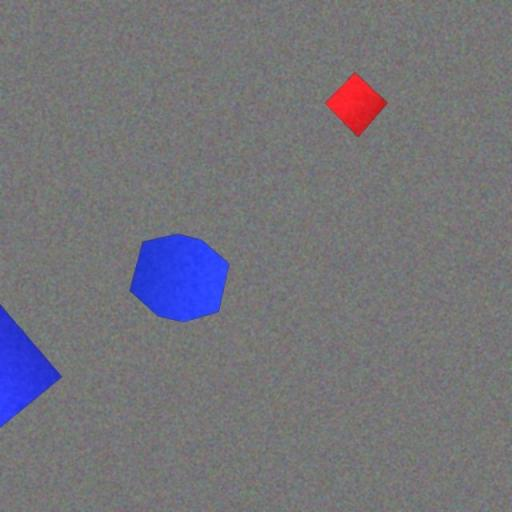BLUE_SQUARE: (0, 303, 62, 434)
RED_SQUARE: (325, 72, 388, 138)
